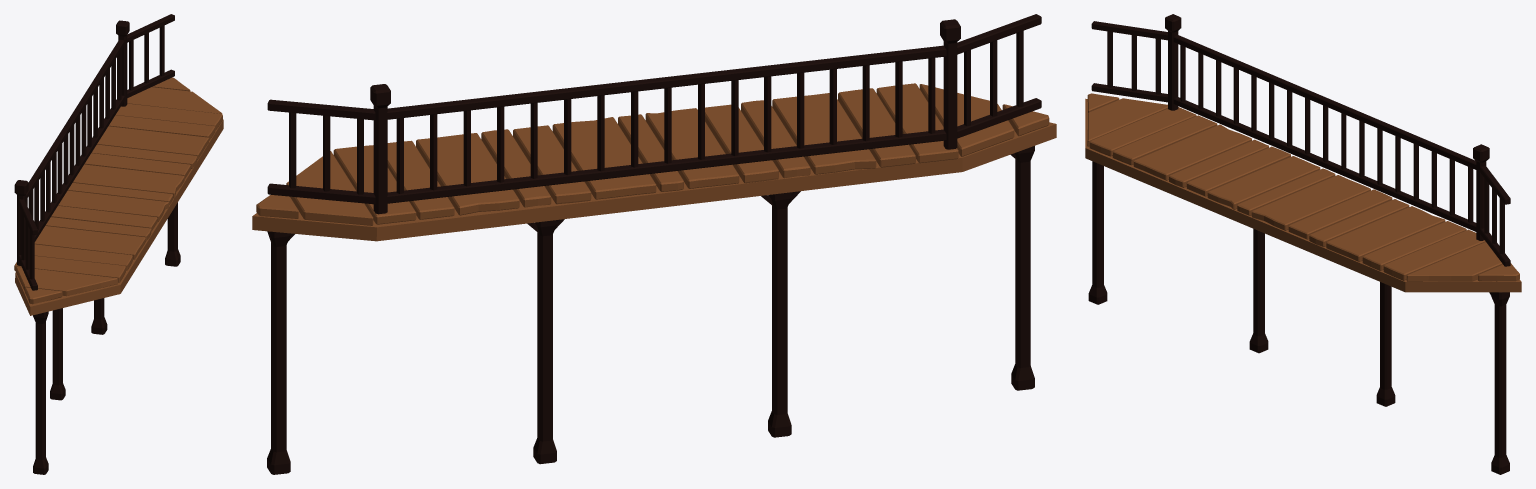
The model's file is ww_balcony_with_railing_c.glb.
The picture shows the model from 3 angles, left to right: view 1: azimuth 30°, elevation 25°; view 2: azimuth 150°, elevation 25°; view 3: azimuth 270°, elevation 25°; orthographic projection. The views are drawn at different scales.
Parts seen in each view (by area): view 1: Balcony_with_Railing_C; view 2: Balcony_with_Railing_C; view 3: Balcony_with_Railing_C.
Part boxes in pixels (box(x1,y1,x2,y2)): Balcony_with_Railing_C: box(14, 14, 223, 474); Balcony_with_Railing_C: box(252, 14, 1056, 474); Balcony_with_Railing_C: box(1085, 14, 1521, 474).
Size of the model in its own units: 6.87 by 5.1 by 6.9.
